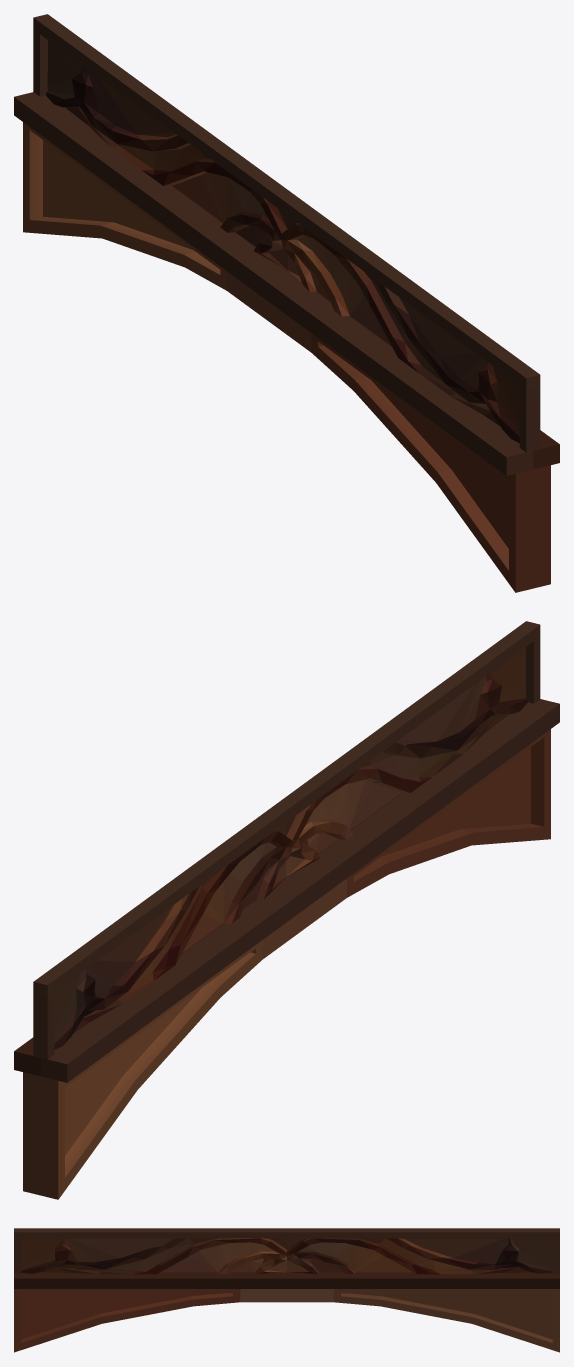
The model's file is Ceiling_HomeA-CeilingArchA.fbx.
The picture shows the model from 3 angles, top to bottom: view 1: azimuth 30°, elevation 25°; view 2: azimuth 150°, elevation 25°; view 3: azimuth 270°, elevation 25°; orthographic projection. The views are drawn at different scales.
Parts seen in each view (by area): view 1: Ceiling_HomeA-CeilingArchA; view 2: Ceiling_HomeA-CeilingArchA; view 3: Ceiling_HomeA-CeilingArchA.
Part boxes in pixels (x1,y1,x2,y2): Ceiling_HomeA-CeilingArchA: [14, 14, 559, 592]; Ceiling_HomeA-CeilingArchA: [14, 621, 559, 1199]; Ceiling_HomeA-CeilingArchA: [14, 1228, 559, 1352].
Bounding box in the file's own units: 37.5 × 142 × 600.
